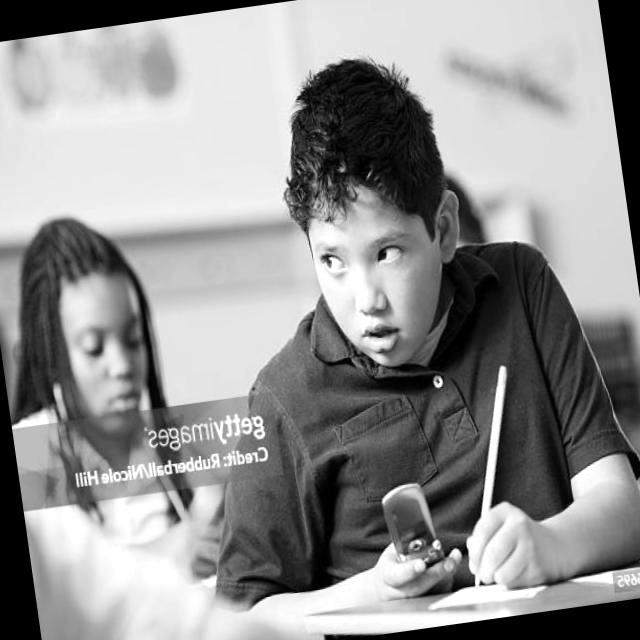phone: (380, 478, 448, 572)
